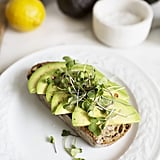slice of bread: (24, 59, 133, 146)
